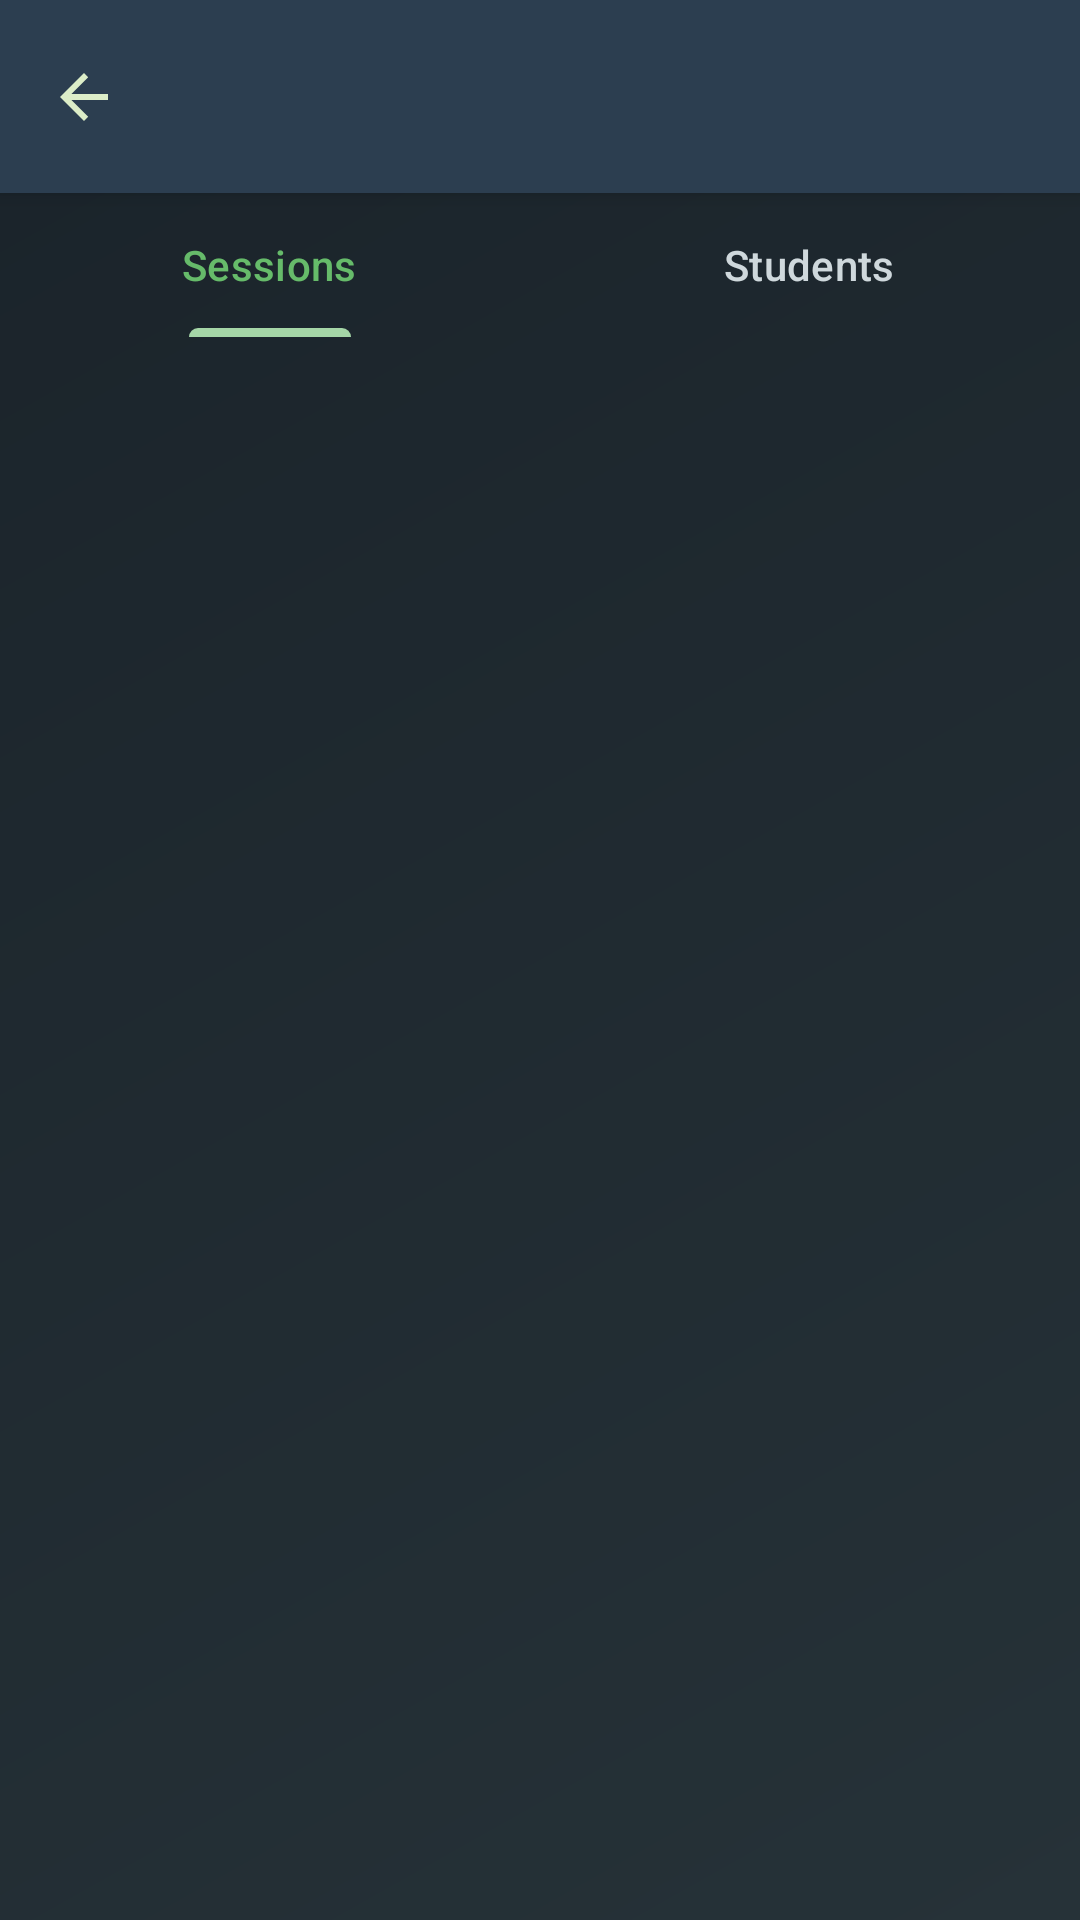

Screen size 1080px x 1920px. Icon name, then its center in pixels as point (x, y):
Back: point (84, 97)
